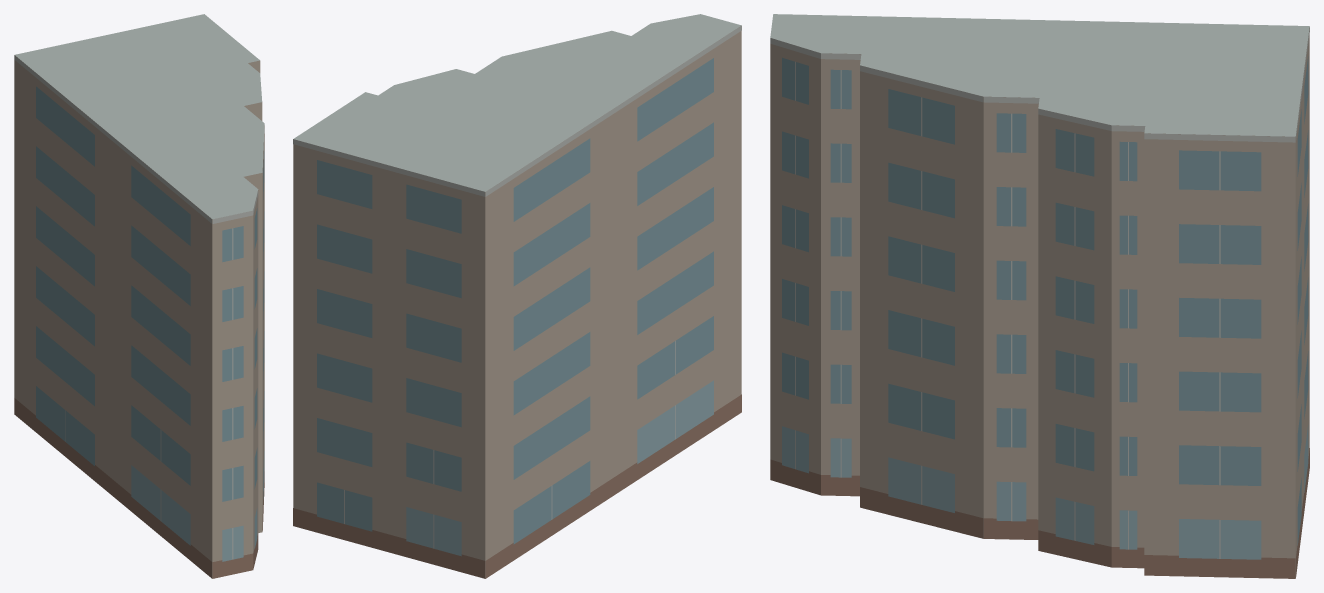
File: survey-upis-32654373.glb
3 views of the same model, side by side, from view 1: azimuth 30°, elevation 25°; view 2: azimuth 150°, elevation 25°; view 3: azimuth 270°, elevation 25° (orthographic). The views are drawn at different scales.
Parts seen in each view (by area): view 1: survey-upis-32654373.tmp; view 2: survey-upis-32654373.tmp; view 3: survey-upis-32654373.tmp.
Part boxes in pixels (x1,y1,x2,y2): survey-upis-32654373.tmp: (14, 14, 264, 578); survey-upis-32654373.tmp: (293, 14, 741, 578); survey-upis-32654373.tmp: (770, 14, 1309, 578).
Size of the model in its own units: 10.96 by 18.4 by 20.36.
